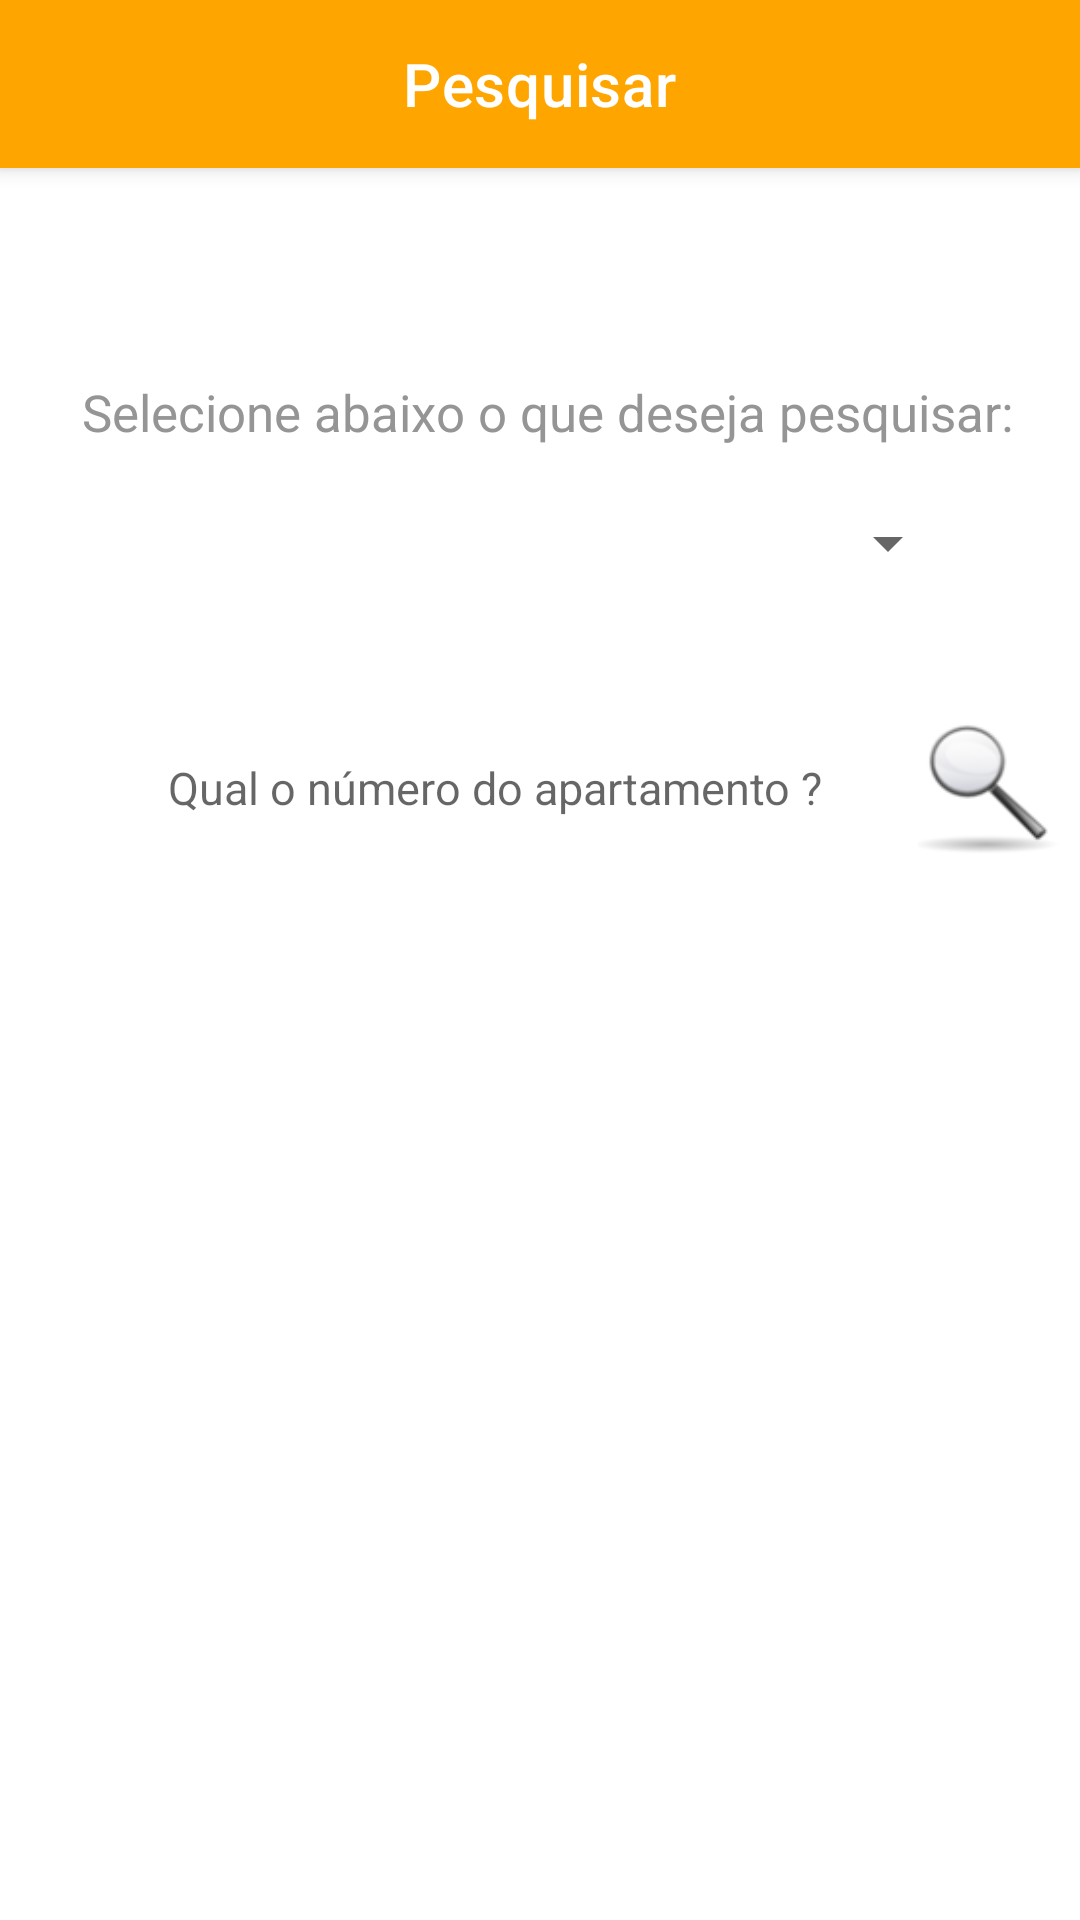

Icons on this 1080w x 1920h Android screen, each with the point to tap as (x,y):
imgbuscar: (988,787)
